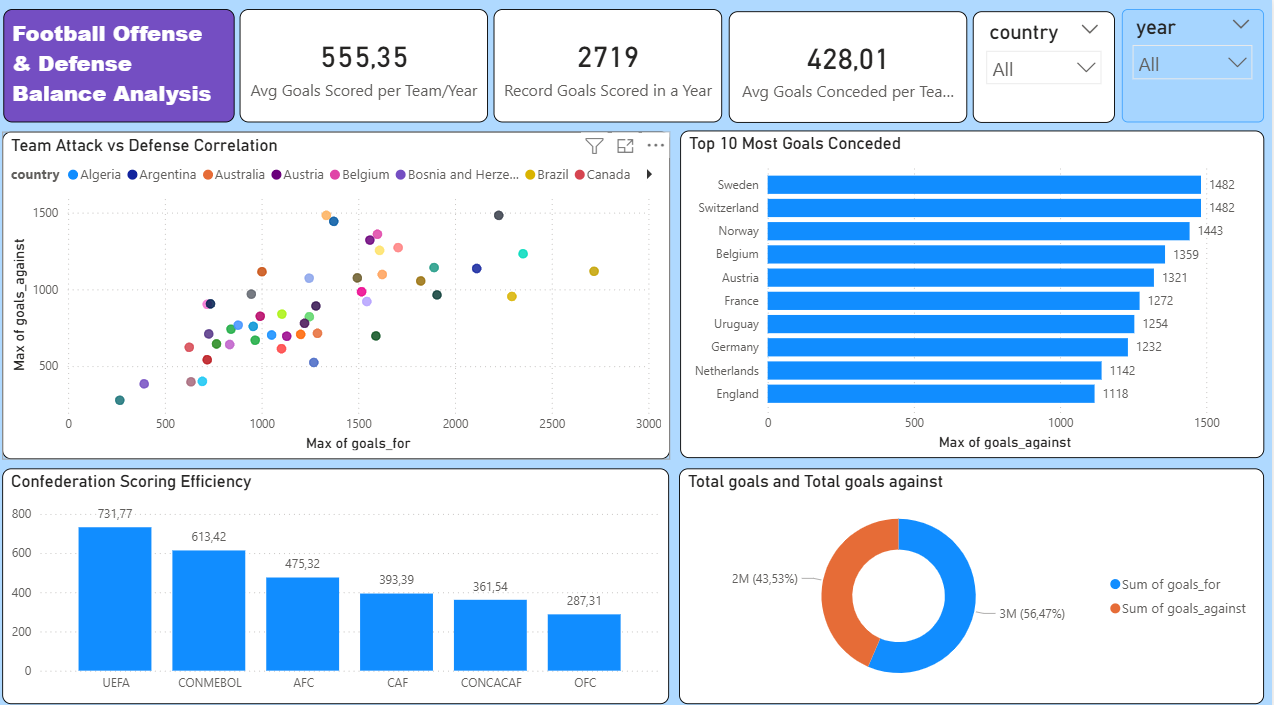

The page's visual inventory and layout, read from the dashboard file:
{"tool":"powerbi","page":{"name":"Offense and Defense Analysis","canvas":[1280,720],"ordinal":2},"visuals":[{"type":"card","fields":{"Values":["Avg(elo_ratings_wc2026.goals_for)"]},"box":[241.1,11.1,250,135.6],"z":0},{"type":"card","fields":{"Values":["Max(elo_ratings_wc2026.goals_for)"]},"box":[496.7,11.1,230,122.2],"z":1000},{"type":"card","fields":{"Values":["Avg(elo_ratings_wc2026.goals_against)"]},"box":[733.1,13.1,240,112.3],"z":2000},{"type":"slicer","title":"Cross-country filter","fields":{"Values":["elo_ratings_wc2026.country"]},"box":[978.5,13.1,143.1,112.3],"z":3000},{"type":"slicer","title":"YEAR","fields":{"Values":["elo_ratings_wc2026.year"]},"box":[1129.2,10.8,143.3,114.2],"z":4000},{"type":"scatterChart","title":"Team Attack vs Defense Correlation","fields":{"X":["Max(elo_ratings_wc2026.goals_for)"],"Y":["Max(elo_ratings_wc2026.goals_against)"],"Series":["elo_ratings_wc2026.country"]},"box":[2.2,155.6,672.2,317.8],"z":5000},{"type":"clusteredBarChart","title":"Top 10 Most Goals Conceded","fields":{"Category":["elo_ratings_wc2026.country"],"Y":["Max(elo_ratings_wc2026.goals_against)"]},"box":[684.4,133.3,587.8,330],"z":6000},{"type":"clusteredColumnChart","title":"Confederation Scoring Efficiency","fields":{"Category":["elo_ratings_wc2026.confederation"],"Y":["Avg(elo_ratings_wc2026.goals_for)"]},"box":[2.2,481.1,671.1,230],"z":7000},{"type":"donutChart","title":"Total goals  and Total goals against","fields":{"Y":["Sum(elo_ratings_wc2026.goals_for)","Sum(elo_ratings_wc2026.goals_against)"]},"box":[683.8,473.8,588.8,237.5],"z":8000},{"type":"textbox","box":[3.3,11.1,232.2,135.6],"z":9000}]}

Visuals, with their boxes in screenshot pixels (x1, y1, x2, y2), scaled from the page's 1280x720 canvas onto the 1274x705 screenshot:
card - Avg(elo_ratings_wc2026.goals_for): (x1=240, y1=11, x2=489, y2=144)
card - Max(elo_ratings_wc2026.goals_for): (x1=494, y1=11, x2=723, y2=131)
card - Avg(elo_ratings_wc2026.goals_against): (x1=730, y1=13, x2=969, y2=123)
"Cross-country filter" slicer: (x1=974, y1=13, x2=1116, y2=123)
"YEAR" slicer: (x1=1124, y1=11, x2=1267, y2=122)
"Team Attack vs Defense Correlation" scatterChart: (x1=2, y1=152, x2=671, y2=464)
"Top 10 Most Goals Conceded" clusteredBarChart: (x1=681, y1=131, x2=1266, y2=454)
"Confederation Scoring Efficiency" clusteredColumnChart: (x1=2, y1=471, x2=670, y2=696)
"Total goals  and Total goals against" donutChart: (x1=681, y1=464, x2=1267, y2=696)
textbox: (x1=3, y1=11, x2=234, y2=144)
